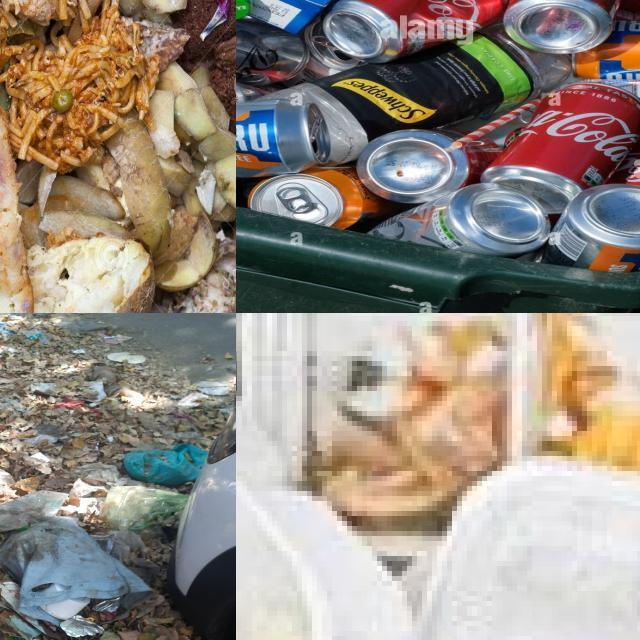Disposable: (243, 313, 640, 524), (236, 400, 409, 640), (415, 457, 640, 640)
Garbage: (236, 313, 640, 640), (236, 0, 640, 271), (0, 316, 232, 640)
Plastic: (40, 598, 91, 620)
Plastic_Bag: (100, 486, 187, 545), (123, 444, 207, 486), (110, 531, 160, 583)
Plastic_Straw: (447, 99, 542, 151)
Plastic_bottle: (259, 26, 573, 166)
Plastic_wraper: (0, 490, 67, 531), (60, 615, 104, 637), (92, 598, 122, 612)
can: (482, 83, 640, 214), (369, 183, 549, 256), (323, 0, 510, 62), (358, 129, 500, 204), (248, 167, 412, 229), (248, 167, 405, 228), (545, 183, 640, 272), (236, 100, 330, 177), (505, 0, 619, 54), (236, 19, 306, 84), (575, 20, 640, 78), (304, 20, 365, 73)
